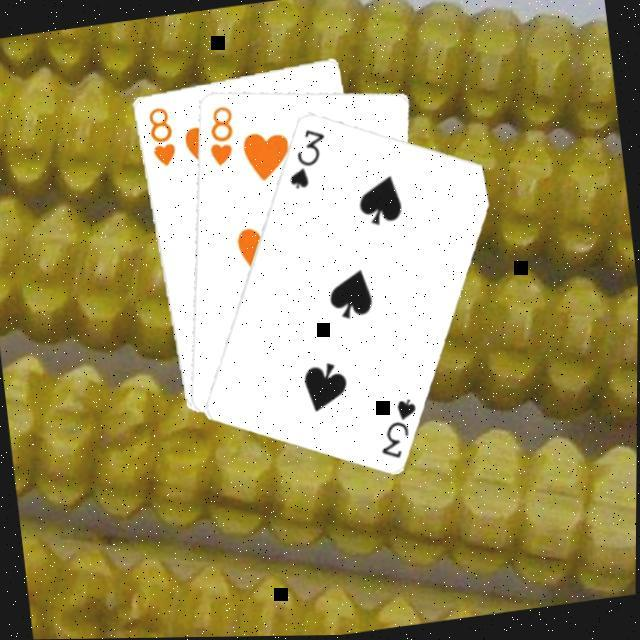3S: (277, 122, 330, 192), (370, 393, 423, 463)
8H: (197, 99, 238, 169), (140, 100, 178, 169)
